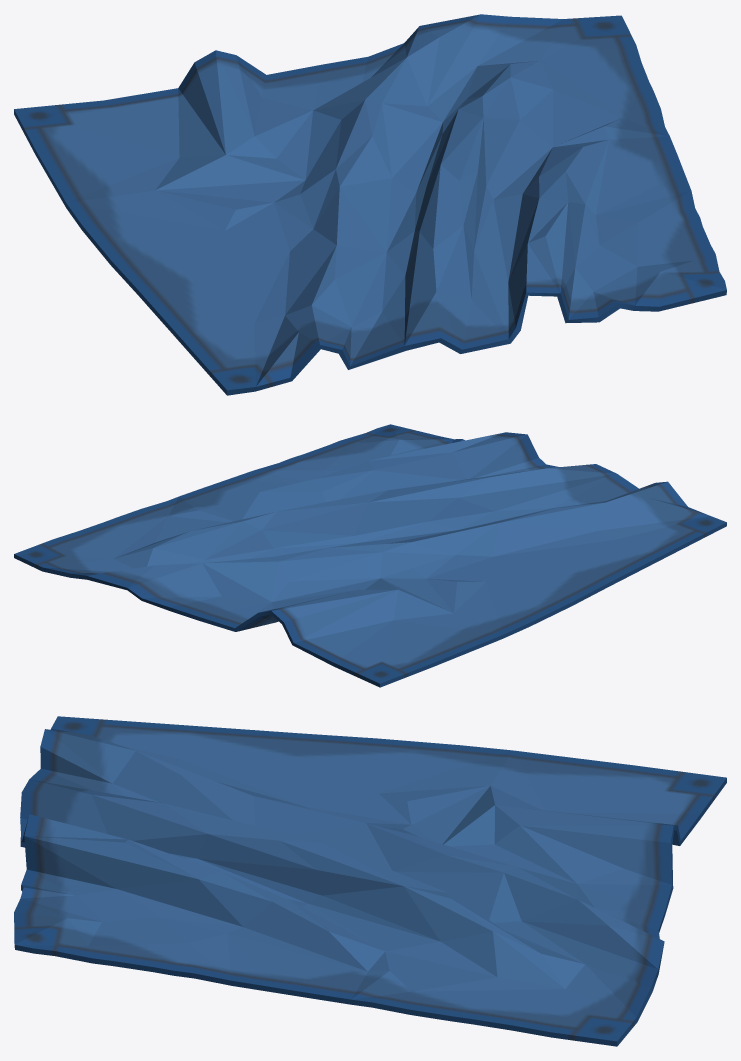
Rendered from SM_Prop_Tarp_Generic_04.fbx.
3 views of the same model, one above another, from view 1: azimuth 30°, elevation 25°; view 2: azimuth 150°, elevation 25°; view 3: azimuth 270°, elevation 25° (orthographic). The views are drawn at different scales.
Visible parts, largest first — view 1: SM_Prop_Tarp_Generic_04; view 2: SM_Prop_Tarp_Generic_04; view 3: SM_Prop_Tarp_Generic_04.
Part boxes in pixels (x1,y1,x2,y2): SM_Prop_Tarp_Generic_04: (14,14,726,395); SM_Prop_Tarp_Generic_04: (14,424,726,687); SM_Prop_Tarp_Generic_04: (14,716,726,1046).
Size of the model in its own units: 468 by 31.88 by 433.
